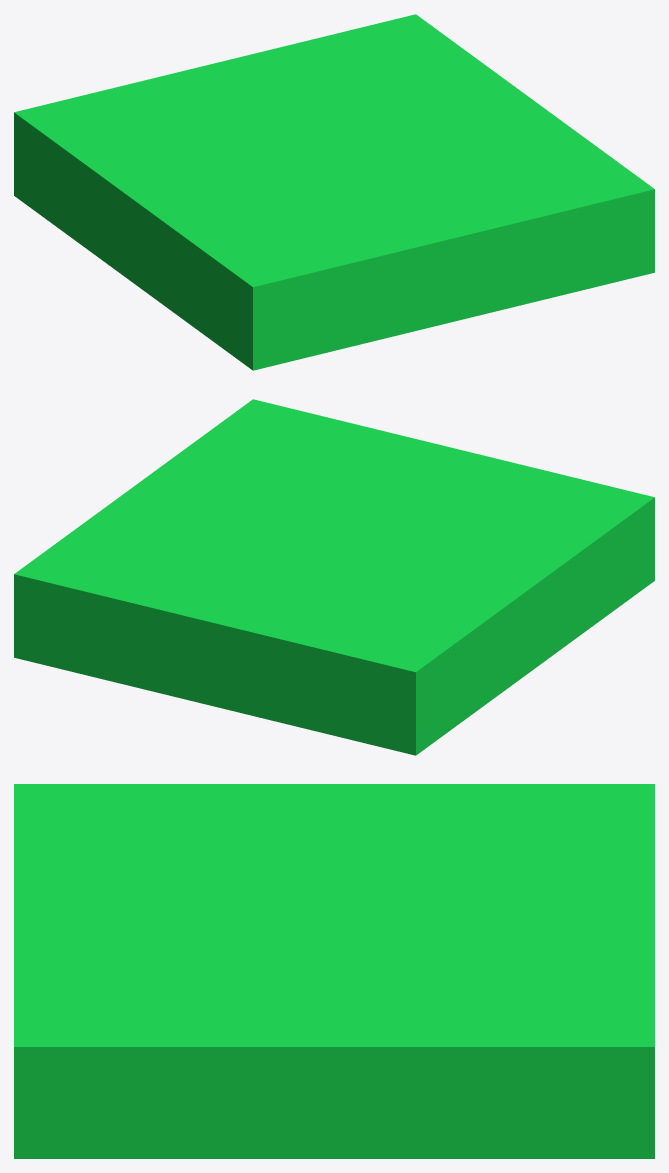
Rendered from platQube.glb.
3 renders of one model, top to bottom at view 1: azimuth 30°, elevation 25°; view 2: azimuth 150°, elevation 25°; view 3: azimuth 270°, elevation 25°, orthographic. The views are drawn at different scales.
Visible parts, largest first — view 1: Cube; view 2: Cube; view 3: Cube.
Boxes of the visible parts, box(x1,y1,x2,y2) form: Cube: box(14, 14, 654, 370); Cube: box(14, 399, 654, 755); Cube: box(14, 784, 654, 1158).
Bounding box in the file's own units: 1.08 × 0.2151 × 1.12.
